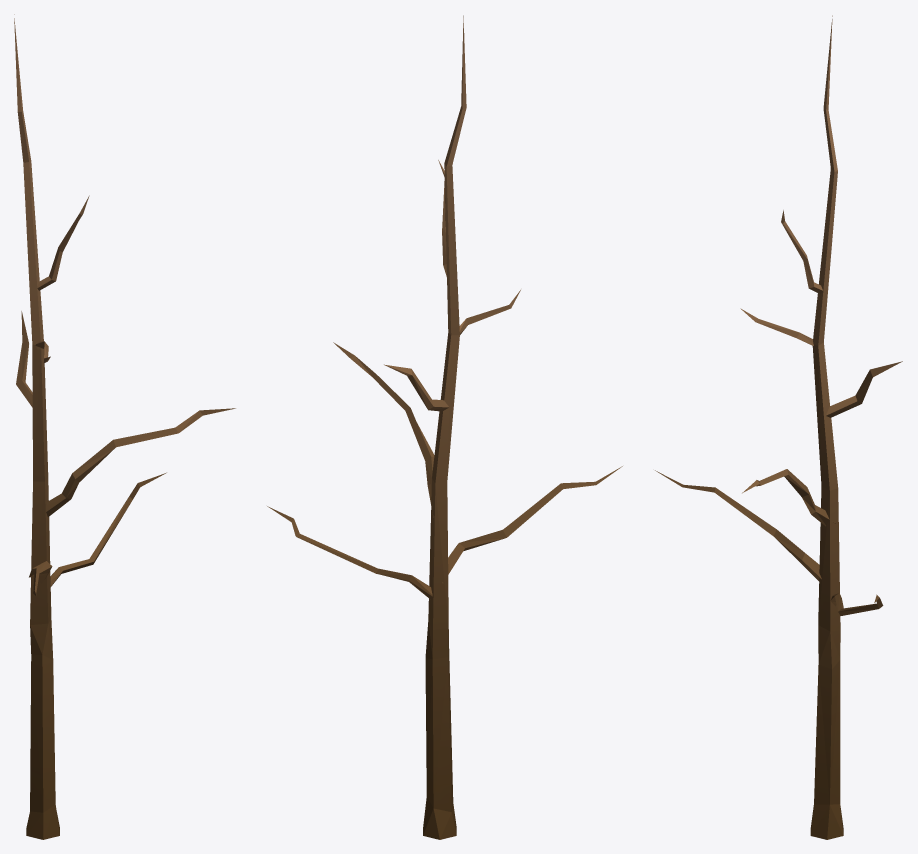
File: ZLP_Plant_L_6.FBX
3 views of the same model, side by side, from view 1: azimuth 30°, elevation 25°; view 2: azimuth 150°, elevation 25°; view 3: azimuth 270°, elevation 25° (orthographic). The views are drawn at different scales.
Parts seen in each view (by area): view 1: ZLP_Plant_L_6; view 2: ZLP_Plant_L_6; view 3: ZLP_Plant_L_6.
Boxes of the visible parts, x1,y1,x2,y2 form: ZLP_Plant_L_6: (14,14,235,839); ZLP_Plant_L_6: (267,15,622,839); ZLP_Plant_L_6: (655,15,902,839).
Bounding box in the file's own units: 152 × 485 × 137.
